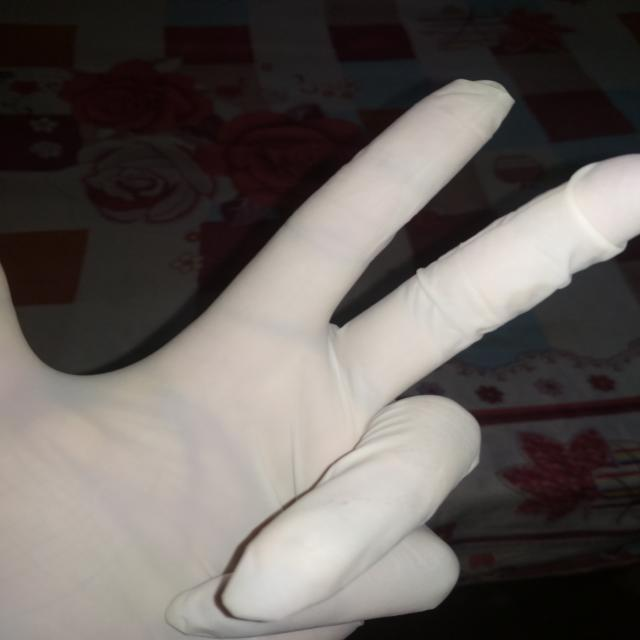glove_hand: (3, 74, 637, 637)
